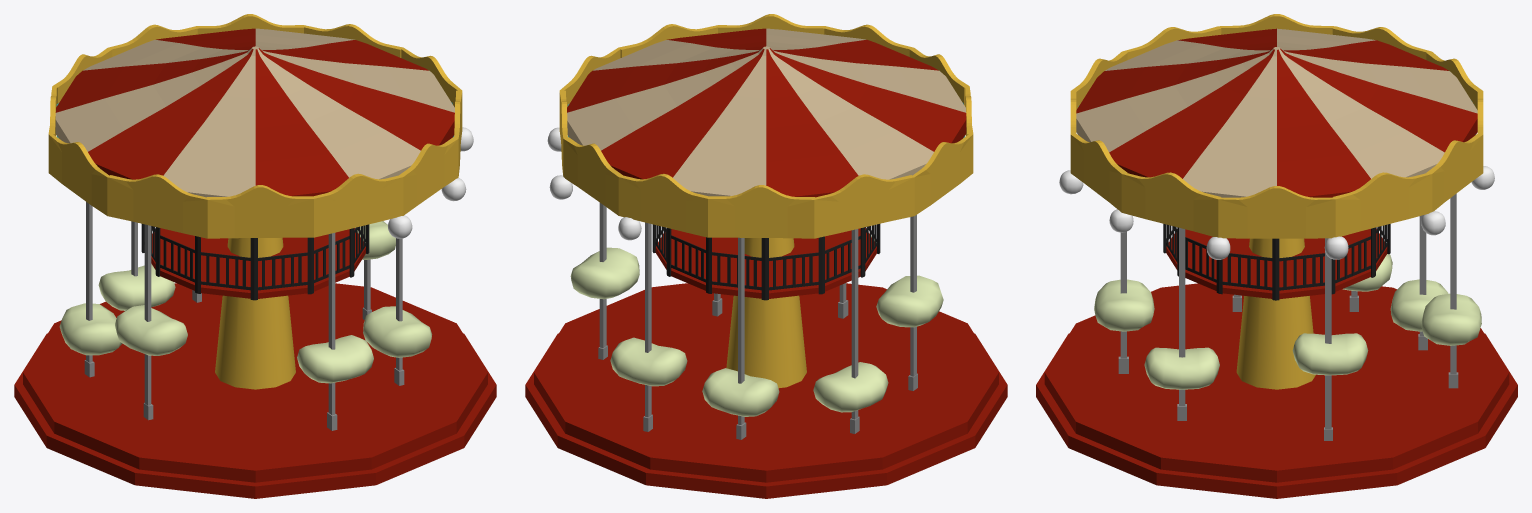
File: carrusel.fbx
3 views of the same model, side by side, from view 1: azimuth 30°, elevation 25°; view 2: azimuth 150°, elevation 25°; view 3: azimuth 270°, elevation 25° (orthographic).
Visible parts, largest first — view 1: Cylinder.001, Cylinder.005, Cube.093, Cylinder, Cylinder.002, Cylinder.003, Cube.097, Cube.161, Cube.160, Cube.154, Cube.159, Cube.157 (+5 smaller); view 2: Cylinder.001, Cylinder.005, Cube.093, Cylinder, Cylinder.003, Cylinder.002, Cube.097, Cube.157, Cube.156, Cube.159, Cube.155, Cube.160 (+5 smaller); view 3: Cylinder.001, Cylinder.005, Cube.093, Cylinder, Cylinder.002, Cylinder.003, Cube.097, Cube.154, Cube.155, Cube.156, Cube.161, Cube.157 (+6 smaller).
Part boxes in pixels (box(x1,y1,x2,y2)): Cylinder.001: box(23, 283, 487, 482); Cylinder.005: box(55, 28, 454, 197); Cube.093: box(48, 14, 462, 238); Cylinder: box(14, 333, 496, 498); Cylinder.002: box(215, 238, 295, 389); Cylinder.003: box(151, 228, 365, 298); Cube.097: box(141, 224, 369, 300); Cube.161: box(297, 335, 373, 383); Cube.160: box(115, 305, 187, 355); Cube.154: box(363, 306, 432, 357); Cube.159: box(59, 303, 122, 355); Cube.157: box(98, 264, 175, 310); Cylinder.001: box(534, 283, 998, 482); Cylinder.005: box(567, 28, 966, 197); Cube.093: box(559, 14, 973, 238); Cylinder: box(525, 333, 1007, 498); Cylinder.003: box(655, 228, 876, 298); Cylinder.002: box(726, 238, 806, 388); Cube.097: box(652, 224, 880, 300); Cube.157: box(702, 368, 779, 416); Cube.156: box(610, 337, 687, 386); Cube.159: box(813, 362, 888, 412); Cube.155: box(570, 247, 639, 299); Cube.160: box(876, 275, 943, 327); Cylinder.001: box(1044, 283, 1509, 482); Cylinder.005: box(1076, 28, 1477, 197); Cube.093: box(1070, 14, 1483, 238); Cylinder: box(1036, 333, 1517, 498); Cylinder.002: box(1236, 238, 1315, 389); Cylinder.003: box(1166, 228, 1387, 299); Cube.097: box(1163, 224, 1390, 300); Cube.154: box(1144, 347, 1219, 389); Cube.155: box(1292, 333, 1368, 375); Cube.156: box(1421, 293, 1481, 345); Cube.161: box(1094, 279, 1154, 331); Cube.157: box(1390, 279, 1448, 331).
Bounding box in the file's own units: 874 × 699 × 874.
